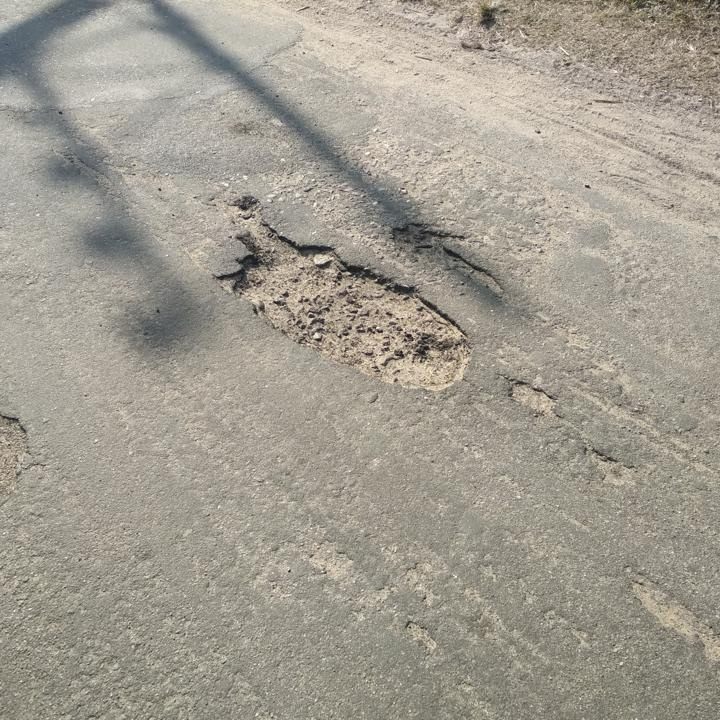pothole: (210, 189, 469, 396), (618, 560, 720, 661), (386, 217, 507, 300), (499, 375, 565, 419), (0, 410, 32, 500)
